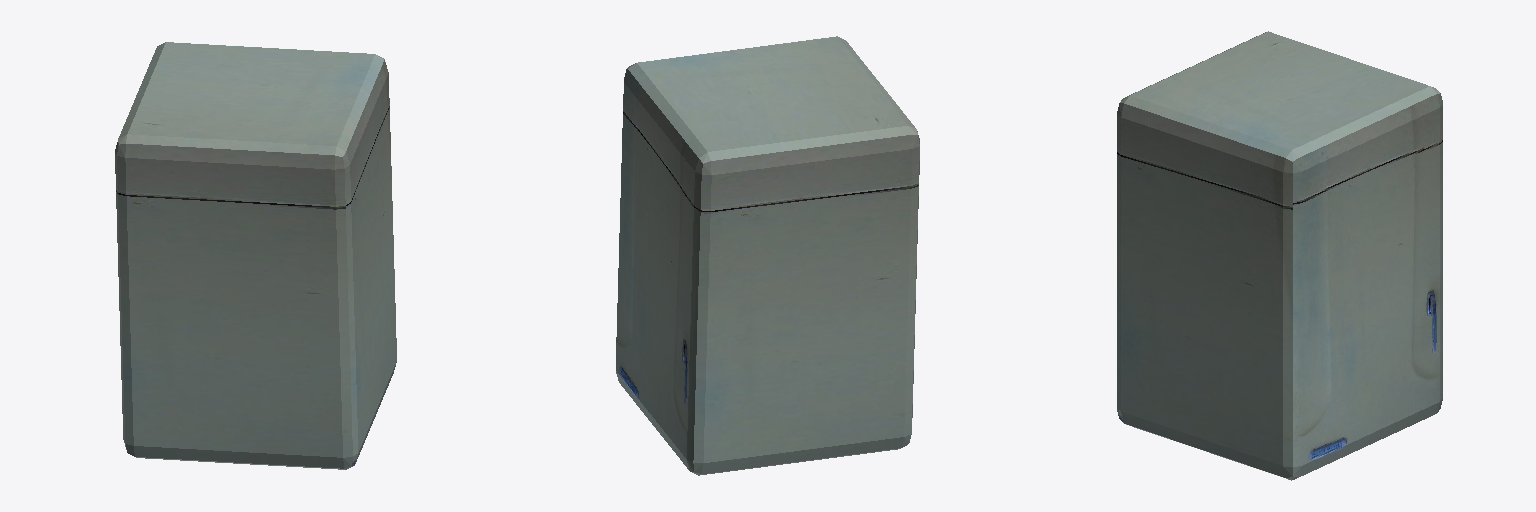
The picture shows the model from 3 angles: view 1: azimuth 30°, elevation 25°; view 2: azimuth 150°, elevation 25°; view 3: azimuth 270°, elevation 25°; orthographic projection.
Visible parts, largest first — view 1: Cube; view 2: Cube; view 3: Cube.
Part boxes in pixels (bbox=[...]): Cube: bbox=[115, 42, 396, 469]; Cube: bbox=[616, 36, 919, 475]; Cube: bbox=[1117, 31, 1442, 480].
Size of the model in its own units: 2.81 by 3.08 by 2.73.
Materials: 1 (1 with a texture image).